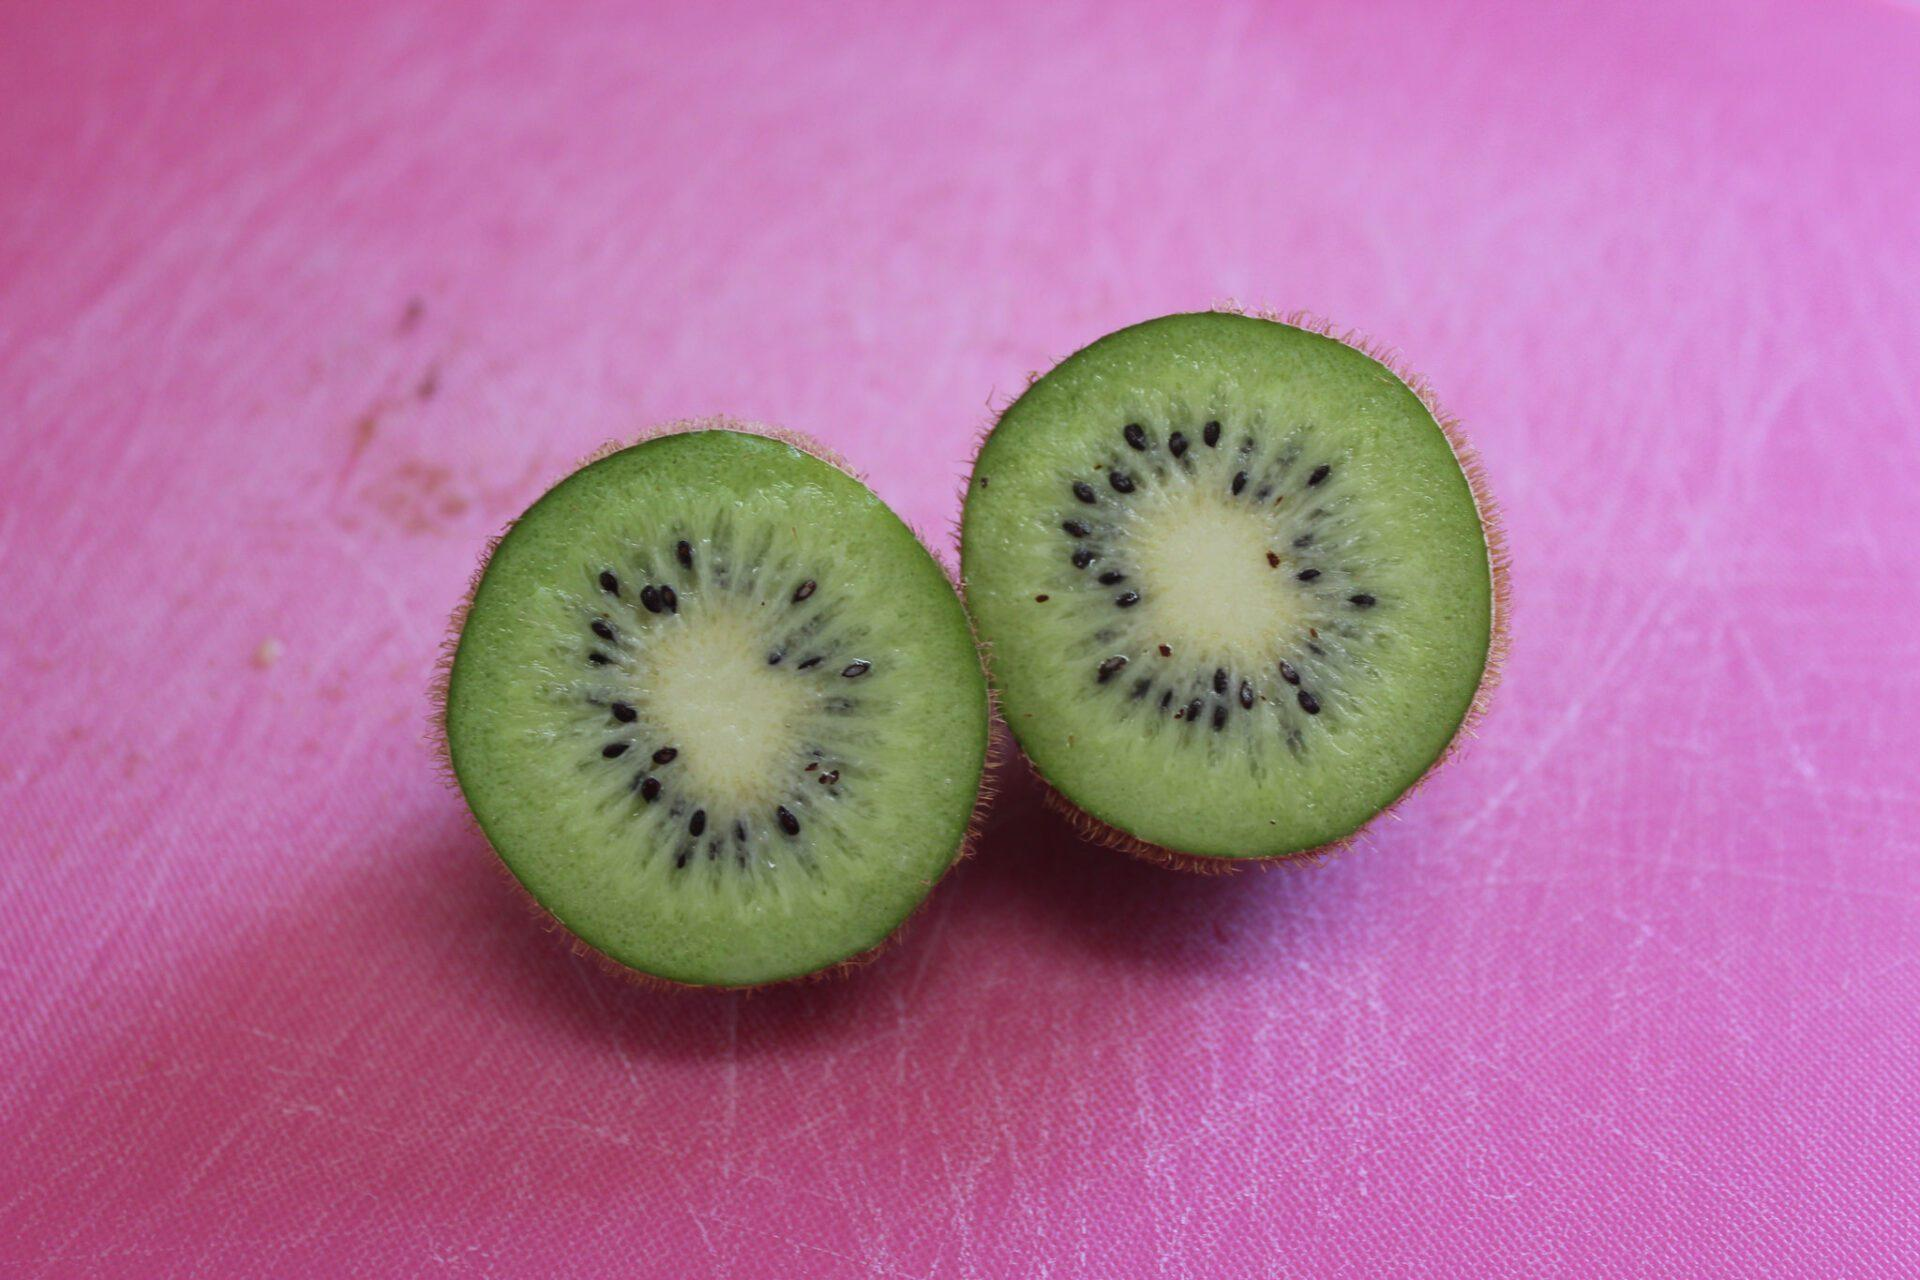kiwi: (414, 410, 1000, 1024), (953, 296, 1540, 904)
